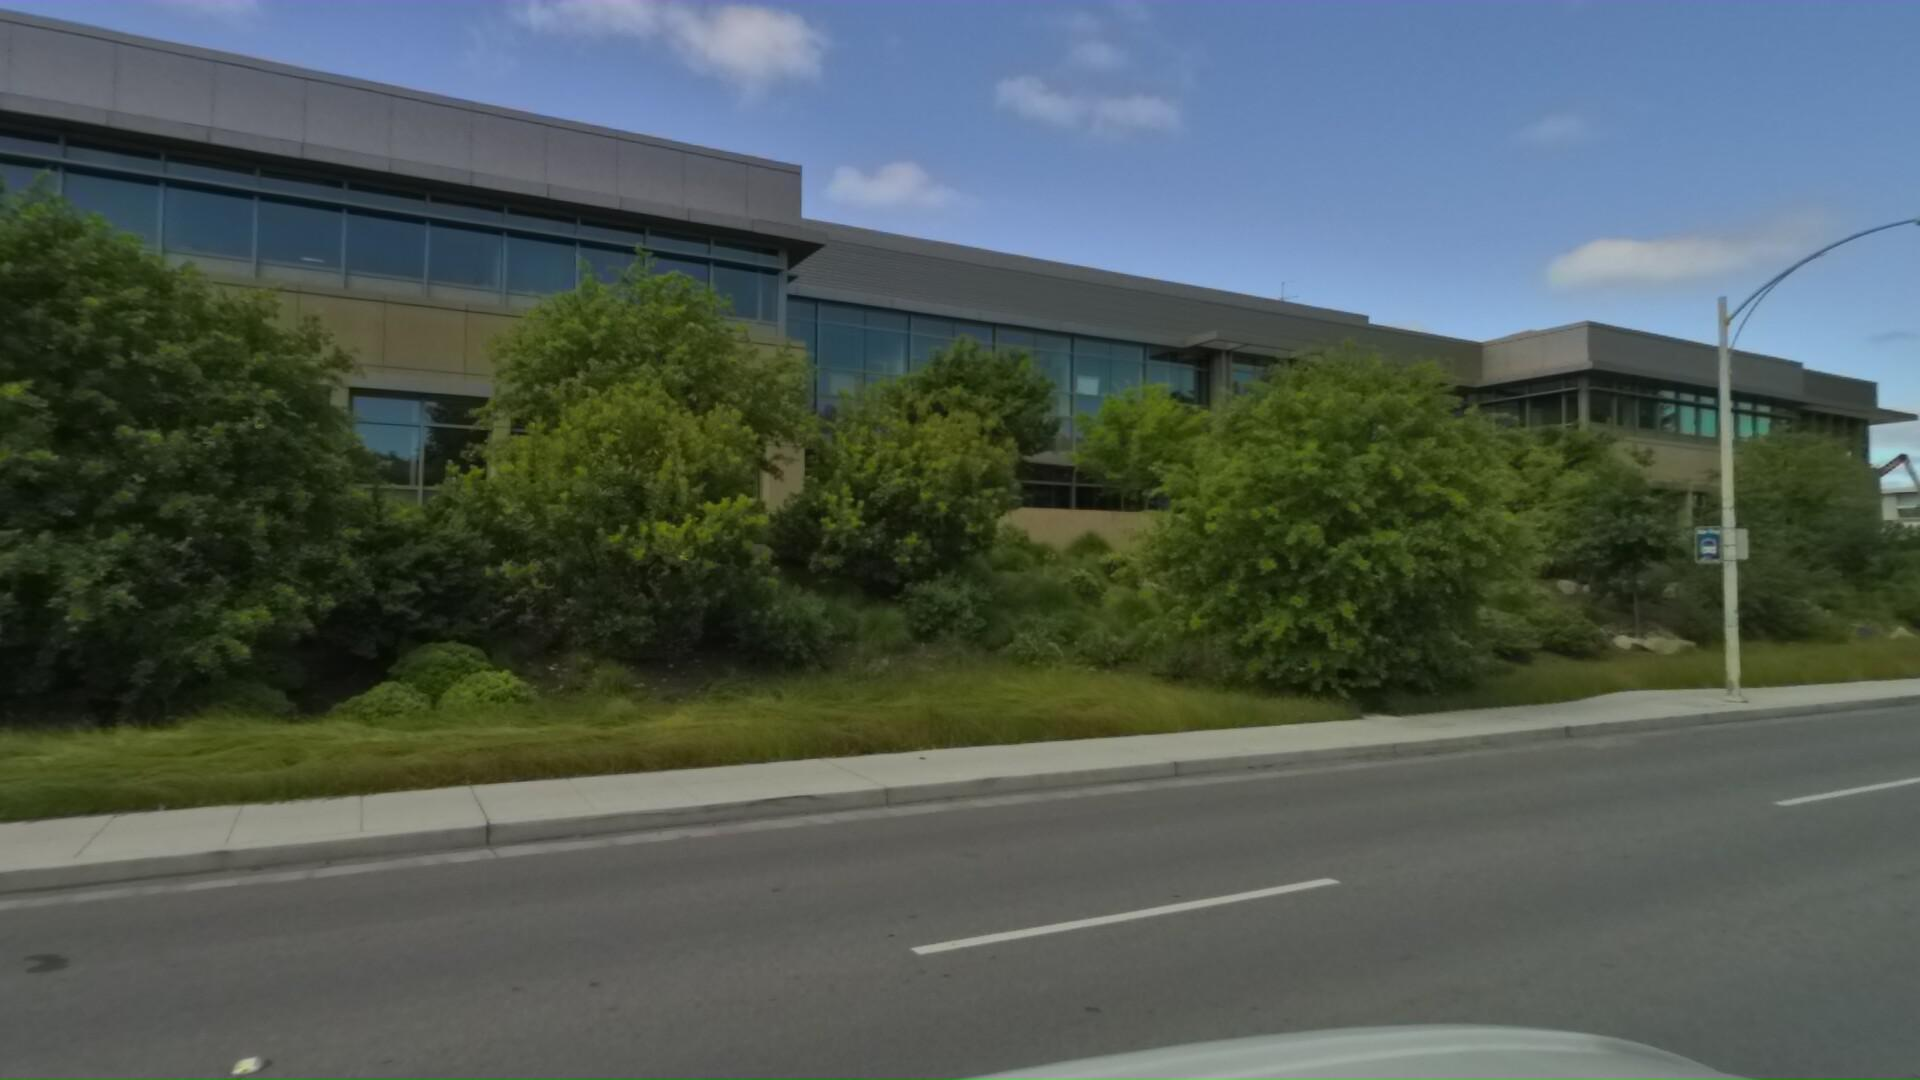other_vehicle: (1809, 430, 1920, 599)
